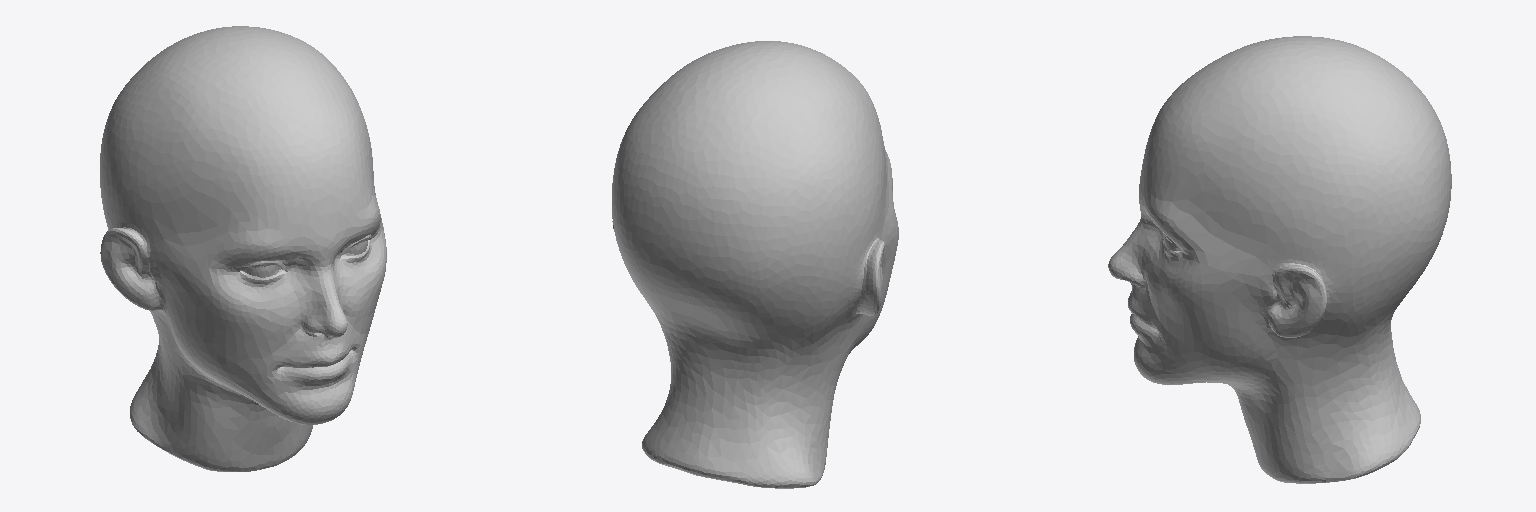
The model's file is head.obj.
3 renders of one model, left to right at view 1: azimuth 30°, elevation 25°; view 2: azimuth 150°, elevation 25°; view 3: azimuth 270°, elevation 25°, orthographic.
Bounding box in the file's own units: 0.644 × 0.9624 × 0.7193.